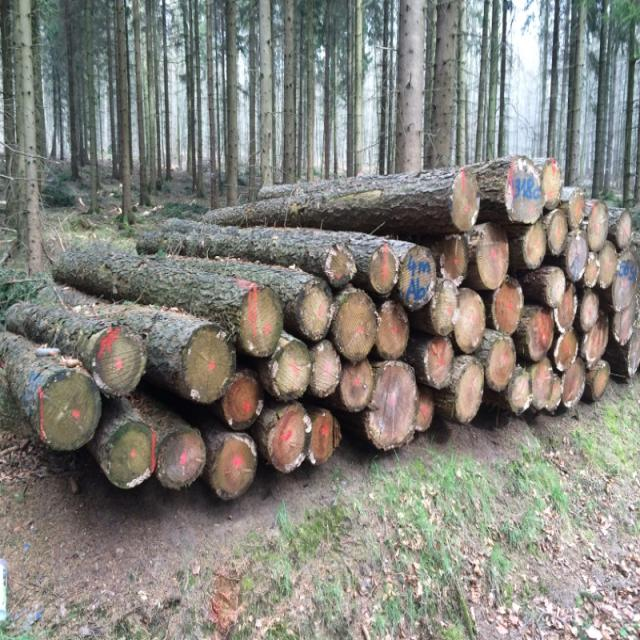wood-log: (36, 368, 101, 450), (366, 360, 419, 450), (182, 323, 235, 403), (90, 327, 146, 397), (332, 290, 378, 362), (210, 432, 258, 500), (239, 285, 284, 357), (106, 422, 155, 488), (155, 428, 206, 490), (269, 402, 312, 473), (504, 157, 544, 223), (220, 371, 264, 430), (271, 340, 311, 401), (297, 278, 335, 342), (399, 245, 436, 310), (477, 223, 509, 290), (375, 300, 409, 360), (455, 288, 485, 353), (455, 358, 484, 423), (451, 168, 480, 232), (610, 252, 640, 312), (492, 277, 524, 333), (308, 412, 341, 465), (310, 340, 340, 398), (340, 361, 374, 412), (429, 280, 459, 335), (485, 337, 515, 392), (581, 310, 609, 368), (424, 337, 454, 390), (369, 243, 399, 295), (525, 307, 554, 360), (324, 242, 356, 288), (440, 235, 468, 287), (564, 228, 589, 282), (561, 357, 586, 408), (506, 367, 532, 415), (554, 282, 578, 333), (531, 357, 554, 410), (586, 200, 609, 252), (611, 298, 636, 345), (553, 328, 579, 372), (542, 157, 563, 210), (522, 222, 546, 268), (596, 240, 618, 290), (547, 208, 568, 257), (415, 387, 434, 432), (580, 288, 599, 332), (546, 267, 565, 308), (592, 360, 611, 400), (568, 188, 586, 228), (545, 373, 562, 413), (615, 210, 632, 250), (628, 327, 640, 377), (584, 252, 600, 288)
